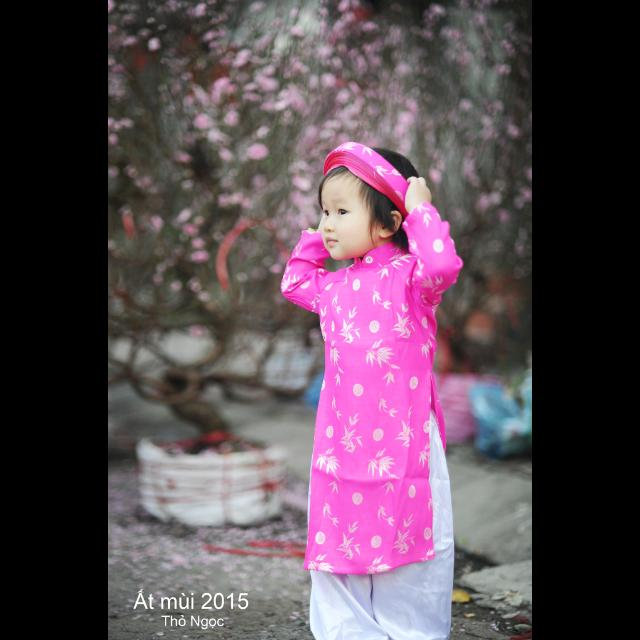Flower: (109, 1, 532, 451)
